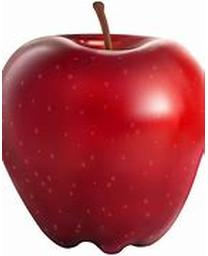apple: (4, 3, 205, 253)
